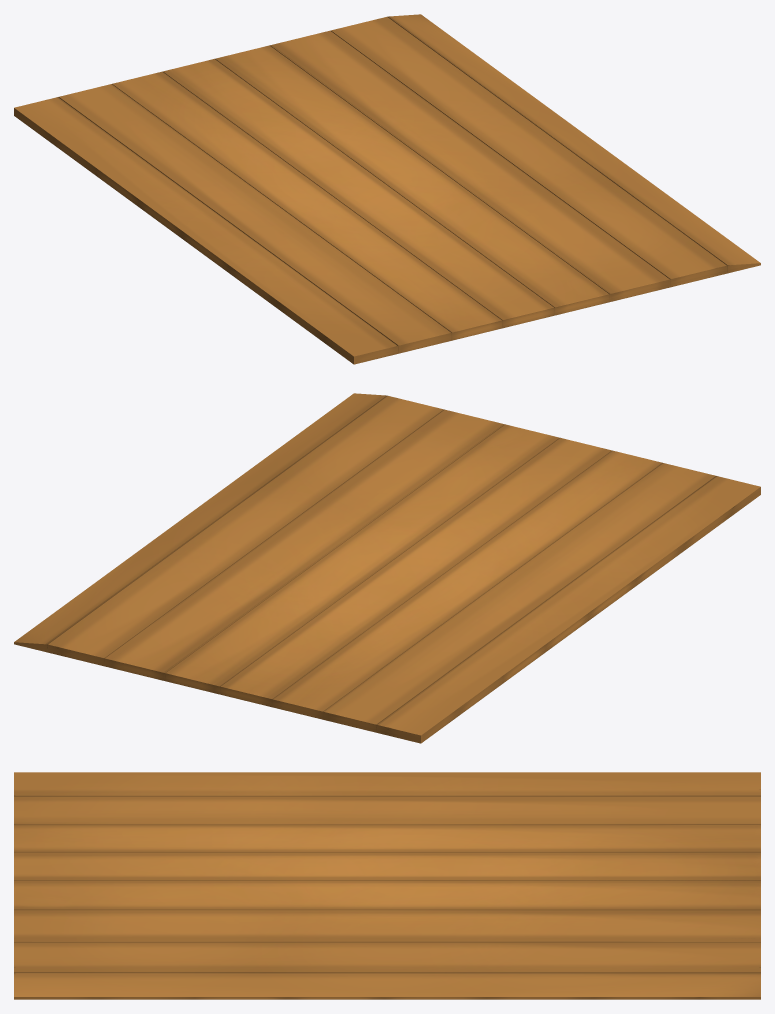
Rendered from boardwalkModel.fbx.
3 renders of one model, top to bottom at view 1: azimuth 30°, elevation 25°; view 2: azimuth 150°, elevation 25°; view 3: azimuth 270°, elevation 25°, orthographic. The views are drawn at different scales.
Visible parts, largest first — view 1: Box001; view 2: Box001; view 3: Box001.
Boxes of the visible parts, <box> form: Box001: <box>14,14,760,364</box>; Box001: <box>14,393,760,743</box>; Box001: <box>14,772,760,999</box>.
Bounding box in the file's own units: 718 × 13.59 × 1039.
Materials: 1 (1 with a texture image).
